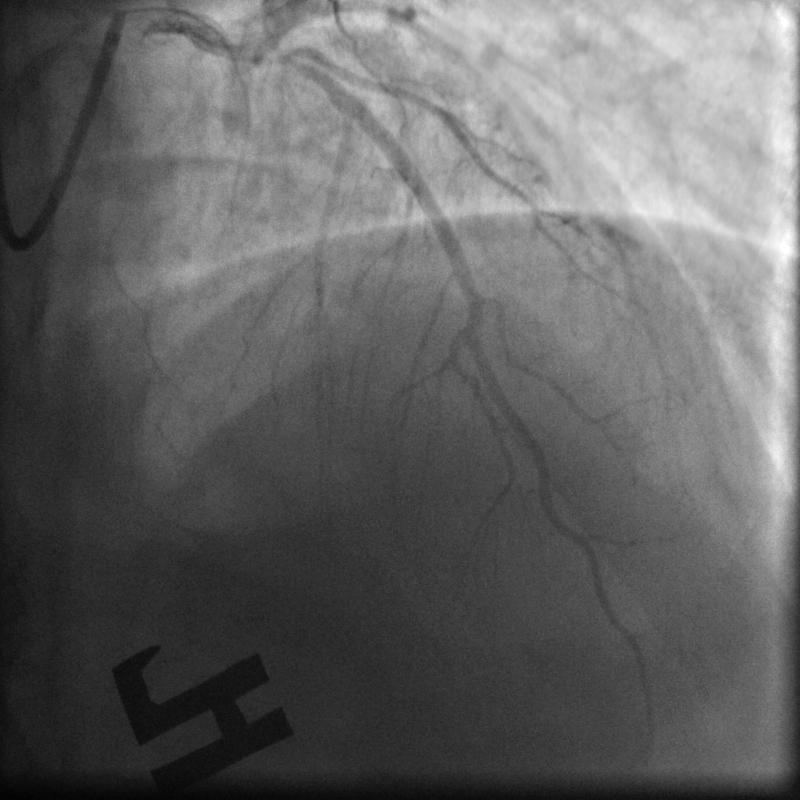Stenosis: (224, 33, 300, 72)
